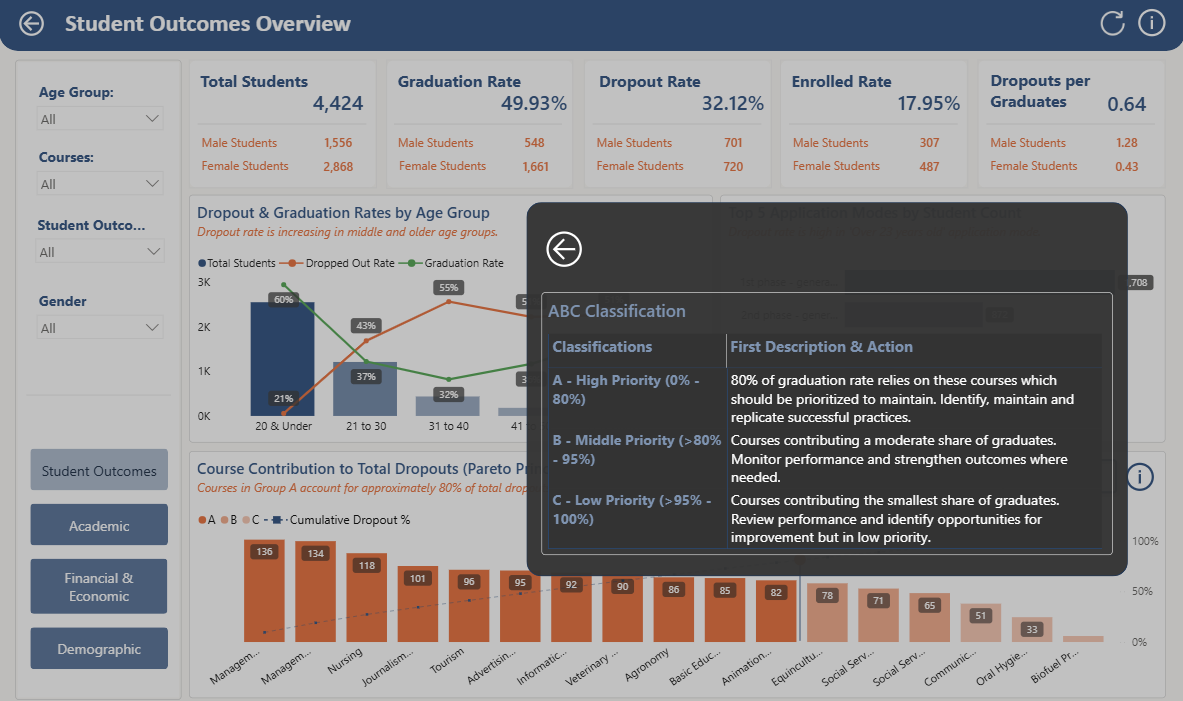

This screenshot's page, from the dashboard's own definition file:
{"tool":"powerbi","page":{"name":"Student Outcomes Overview","canvas":[1582,950],"ordinal":1},"visuals":[{"type":"shape","title":"Shape - Under","box":[0,0,1581.7,73.3],"z":0,"group":"g3"},{"type":"textbox","box":[83.9,12.3,395,50],"z":0,"group":"g7"},{"type":"shape","box":[21.7,85,221.7,853.3],"z":0,"group":"g30"},{"type":"shape","box":[516.7,85,249.1,171.6],"z":0,"group":"g1"},{"type":"group","id":"g1","title":"Group 3","box":[516.7,85,250.1,171.7],"z":0,"group":"g29"},{"type":"shape","box":[779.4,85,250.1,171.4],"z":0,"group":"g4"},{"type":"shape","box":[1042.1,85,250.1,171.4],"z":0,"group":"g8"},{"type":"shape","box":[1304.8,85,250.1,171.4],"z":0,"group":"g22"},{"type":"shape","box":[253.3,85.1,250.1,171.4],"z":0,"group":"g15"},{"type":"textbox","box":[1316.9,91.8,237,71.9],"z":0,"group":"g9"},{"type":"textbox","box":[526.4,92.8,191.5,43.9],"z":0,"group":"g10"},{"type":"textbox","box":[793.7,93,169.6,40.1],"z":0,"group":"g11"},{"type":"textbox","box":[1052.1,93,173,42],"z":0,"group":"g12"},{"type":"textbox","box":[262.8,93.1,181.4,42],"z":0,"group":"g13"},{"type":"textbox","box":[790.4,177.9,142.8,39.1],"z":0,"group":"g17"},{"type":"textbox","box":[1053.1,177.9,142.8,39.1],"z":0,"group":"g18"},{"type":"textbox","box":[1315.8,177.9,142.8,39.1],"z":0,"group":"g19"},{"type":"textbox","box":[264.3,178,142.8,39.1],"z":0,"group":"g20"},{"type":"textbox","box":[527,178.3,182.3,39.2],"z":0,"group":"g21"},{"type":"textbox","box":[790.8,209.9,142.8,39.1],"z":0,"group":"g23"},{"type":"textbox","box":[1053.5,209.9,142.8,39.1],"z":0,"group":"g24"},{"type":"textbox","box":[1316.2,209.9,142.8,39.1],"z":0,"group":"g25"},{"type":"textbox","box":[264.7,210,142.8,39.1],"z":0,"group":"g26"},{"type":"textbox","box":[528.1,210.2,142.3,39.1],"z":0,"group":"g27"},{"type":"slicer","fields":{"Values":["fact_student.Gender"]},"box":[39.7,387.9,188.9,105.6],"z":0,"group":"g16"},{"type":"shape","box":[36.7,508.4,192.2,155.9],"z":0},{"type":"group","id":"g2","title":"Group 4","box":[42,603.6,183.7,293.8],"z":0,"group":"g5"},{"type":"lineStackedColumnComboChart","title":"Course Contribution to Total Dropouts (Pareto Principle & ABC Categorization)","fields":{"Category":["sum_course_contribution.Course Name"],"Series":["sum_course_contribution.Dropout ABC"],"Y":["Sum(sum_course_contribution.Dropout Count)"],"Y2":["Sum(sum_course_contribution.Cumulative Dropout %)"]},"box":[253.1,606.5,1302.1,329.5],"z":0,"group":"g28"},{"type":"actionButton","title":"icon_info_dropout","box":[1495,615.7,56.8,48.9],"z":0,"group":"g14"},{"type":"shape","box":[1052.5,749.1,32.7,111.2],"z":0,"group":"g6"},{"type":"actionButton","title":"btn_demographic","box":[42,841.3,183.7,56],"z":0,"group":"g2"},{"type":"group","id":"g3","title":"Bg-NavBar","box":[0,0,1581.7,73.3],"z":1000},{"type":"shape","box":[0,0,1581.7,46],"z":1000,"group":"g3"},{"type":"image","box":[1463.6,20,43.3,32.5],"z":1000,"group":"g7"},{"type":"shape","box":[527.5,85,223.8,171.6],"z":1000,"group":"g1"},{"type":"group","id":"g4","title":"Group 3","box":[779.4,85,250.1,171.7],"z":1000,"group":"g29"},{"type":"shape","box":[790.3,85,224.7,171.4],"z":1000,"group":"g4"},{"type":"shape","box":[1053,85,224.7,171.4],"z":1000,"group":"g8"},{"type":"shape","box":[1315.7,85,224.7,171.4],"z":1000,"group":"g22"},{"type":"shape","box":[264.2,85.1,224.7,171.4],"z":1000,"group":"g15"},{"type":"slicer","fields":{"Values":["fact_student.Age Groups"]},"box":[39.7,110.1,188.9,105.6],"z":1000,"group":"g16"},{"type":"card","fields":{"Values":["tbl_measure.Dropout : Graduate Ratio"]},"box":[1451.2,120.9,104.9,52.3],"z":1000,"group":"g9"},{"type":"card","fields":{"Values":["tbl_measure.Dropped Out Rate"]},"box":[925.3,121.5,104.7,46.1],"z":1000,"group":"g11"},{"type":"card","fields":{"Values":["tbl_measure.Enrolled Rate"]},"box":[1188,121.5,104.7,46.1],"z":1000,"group":"g12"},{"type":"card","fields":{"Values":["tbl_measure.Total Students"]},"box":[399.2,121.6,104.7,46.1],"z":1000,"group":"g13"},{"type":"card","fields":{"Values":["tbl_measure.Graduate Rate"]},"box":[662.1,121.6,104.3,46.1],"z":1000,"group":"g10"},{"type":"card","fields":{"Values":["tbl_measure.Dropout Students"]},"box":[925.6,176.2,104.7,41.9],"z":1000,"group":"g17"},{"type":"card","fields":{"Values":["tbl_measure.Enrolled Students"]},"box":[1188.3,176.2,104.7,41.9],"z":1000,"group":"g18"},{"type":"card","fields":{"Values":["tbl_measure.Dropout : Graduate Ratio"]},"box":[1451,176.2,104.7,41.9],"z":1000,"group":"g19"},{"type":"card","fields":{"Values":["tbl_measure.Total Students"]},"box":[399.5,176.3,104.7,41.9],"z":1000,"group":"g20"},{"type":"card","fields":{"Values":["tbl_measure.Graduate Students"]},"box":[662.3,176.3,104.3,41.9],"z":1000,"group":"g21"},{"type":"card","fields":{"Values":["tbl_measure.Dropout Students"]},"box":[926,208.2,104.7,41.9],"z":1000,"group":"g23"},{"type":"card","fields":{"Values":["tbl_measure.Enrolled Students"]},"box":[1188.7,208.2,104.7,41.9],"z":1000,"group":"g24"},{"type":"card","fields":{"Values":["tbl_measure.Dropout : Graduate Ratio"]},"box":[1451.4,208.2,104.7,41.9],"z":1000,"group":"g25"},{"type":"card","fields":{"Values":["tbl_measure.Total Students"]},"box":[399.9,208.3,104.7,41.9],"z":1000,"group":"g26"},{"type":"card","fields":{"Values":["tbl_measure.Graduate Students"]},"box":[662.8,208.4,104.3,41.9],"z":1000,"group":"g27"},{"type":"group","id":"g5","title":"Group 6","box":[42,603.6,183.7,293.8],"z":1000,"group":"g30"},{"type":"actionButton","title":"btn_finance_eco","box":[42,603.6,183.7,56],"z":1000,"group":"g2"},{"type":"actionButton","title":"Top 5 Courses with Graduation","box":[1330.6,611.5,165.1,57.3],"z":1000,"group":"g14"},{"type":"group","id":"g6","title":"group_pareto_80_dropout","box":[1038.8,705.1,62.1,155.3],"z":1000,"group":"g28"},{"type":"shape","box":[1061.1,743.3,15.9,15.9],"z":1000,"group":"g6"},{"type":"group","id":"g7","title":"Group 3","box":[21.7,11.7,1545,50.6],"z":2000},{"type":"actionButton","box":[21.7,14.6,55.6,43.4],"z":2000,"group":"g7"},{"type":"group","id":"g8","title":"Group 3","box":[1042.1,85,250.1,171.7],"z":2000,"group":"g29"},{"type":"group","id":"g9","title":"Group 2","box":[1316.9,91.8,239.1,81.4],"z":2000,"group":"g22"},{"type":"group","id":"g10","title":"Group 2","box":[526.4,92.8,240,74.9],"z":2000,"group":"g1"},{"type":"group","id":"g11","title":"Group 2","box":[793.7,93,236.3,74.5],"z":2000,"group":"g4"},{"type":"group","id":"g12","title":"Group 2","box":[1052.1,93,240.6,74.5],"z":2000,"group":"g8"},{"type":"group","id":"g13","title":"Group 2","box":[262.8,93.1,241.1,74.5],"z":2000,"group":"g15"},{"type":"slicer","fields":{"Values":["fact_student.Target"]},"box":[37.9,286.5,192.6,105.1],"z":2000,"group":"g16"},{"type":"shape","title":"Line","box":[36.6,473.4,192.6,117.8],"z":2000,"group":"g30"},{"type":"group","id":"g14","title":"btn_actions_dropout","box":[1330.6,611.5,221.2,57.3],"z":2000,"group":"g28"},{"type":"actionButton","title":"btn_academic","box":[42,676.9,183.7,56],"z":2000,"group":"g2"},{"type":"textbox","box":[1038.8,705.1,62.1,35],"z":2000,"group":"g6"},{"type":"actionButton","box":[1513.7,11.7,53,47.7],"z":3000,"group":"g7"},{"type":"group","id":"g15","title":"Group 3","box":[253.3,85.1,250.9,171.4],"z":3000,"group":"g29"},{"type":"group","id":"g16","title":"Group 5","box":[37.9,110.1,192.6,383.5],"z":3000,"group":"g30"},{"type":"group","id":"g17","title":"Group 2","box":[790.4,176.2,239.9,41.9],"z":3000,"group":"g4"},{"type":"group","id":"g18","title":"Group 2","box":[1053.1,176.2,239.9,41.9],"z":3000,"group":"g8"},{"type":"group","id":"g19","title":"Group 2","box":[1315.8,176.2,239.9,41.9],"z":3000,"group":"g22"},{"type":"group","id":"g20","title":"Group 2","box":[264.3,176.3,239.9,41.9],"z":3000,"group":"g15"},{"type":"group","id":"g21","title":"Group 2","box":[527,176.3,239.6,41.9],"z":3000,"group":"g1"},{"type":"slicer","fields":{"Values":["dim_course.Course Name"]},"box":[39.6,197.4,189.2,105.1],"z":3000,"group":"g16"},{"type":"actionButton","title":"btn_outcome","box":[42.3,750.1,183,73.9],"z":3000,"group":"g2"},{"type":"group","id":"g22","title":"Group 3","box":[1304.8,85,251.3,171.4],"z":4000,"group":"g29"},{"type":"group","id":"g23","title":"Group 2","box":[790.8,208.2,239.2,41.9],"z":4000,"group":"g4"},{"type":"group","id":"g24","title":"Group 2","box":[1053.5,208.2,239.2,41.9],"z":4000,"group":"g8"},{"type":"group","id":"g25","title":"Group 2","box":[1316.2,208.2,239.2,41.9],"z":4000,"group":"g22"},{"type":"group","id":"g26","title":"Group 2","box":[264.7,208.3,239.2,41.9],"z":4000,"group":"g15"},{"type":"group","id":"g27","title":"Group 2","box":[528.1,208.4,238.3,41.9],"z":4000,"group":"g1"},{"type":"group","id":"g28","title":"grp_dropout_courses","box":[253.1,606.5,1302.1,329.5],"z":4000},{"type":"lineClusteredColumnComboChart","title":"Dropout & Graduation Rates by Age Group","fields":{"Category":["fact_student.Age Groups"],"Y":["tbl_measure.Total Students"],"Y2":["tbl_measure.Dropped Out Rate","tbl_measure.Graduation Rate"]},"box":[253,265.3,698.3,330],"z":5000},{"type":"clusteredBarChart","title":"Top 5 Application Modes by Student Count","fields":{"Category":["dim_applicationmode.ApplicationMode"],"Y":["tbl_measure.Total Students"]},"box":[961.3,265.3,593.3,330],"z":6000},{"type":"group","id":"g29","title":"Group 1","box":[253.3,85,1302.8,171.7],"z":7000},{"type":"group","id":"g30","title":"Sidebar","box":[21.7,85,221.7,853.3],"z":8000}]}

Visuals, with their boxes in screenshot pixels (x1, y1, x2, y2), scaled from the page's 1582x950 canvas onto the 1183x701 screenshot:
"Shape - Under" shape: detection(0, 0, 1182, 54)
textbox: detection(63, 9, 358, 46)
shape: detection(16, 63, 182, 692)
shape: detection(386, 63, 573, 189)
"Group 3" group: detection(386, 63, 573, 189)
shape: detection(583, 63, 770, 189)
shape: detection(779, 63, 966, 189)
shape: detection(976, 63, 1163, 189)
shape: detection(189, 63, 376, 189)
textbox: detection(985, 68, 1162, 121)
textbox: detection(394, 68, 537, 101)
textbox: detection(594, 69, 720, 98)
textbox: detection(787, 69, 916, 100)
textbox: detection(197, 69, 332, 100)
textbox: detection(591, 131, 698, 160)
textbox: detection(787, 131, 894, 160)
textbox: detection(984, 131, 1091, 160)
textbox: detection(198, 131, 304, 160)
textbox: detection(394, 132, 530, 160)
textbox: detection(591, 155, 698, 184)
textbox: detection(788, 155, 895, 184)
textbox: detection(984, 155, 1091, 184)
textbox: detection(198, 155, 305, 184)
textbox: detection(395, 155, 501, 184)
slicer - fact_student.Gender: detection(30, 286, 171, 364)
shape: detection(27, 375, 171, 490)
"Group 4" group: detection(31, 445, 169, 662)
"Course Contribution to Total Dropouts (Pareto Principle & ABC Categorization)" lineStackedColumnComboChart: detection(189, 448, 1163, 691)
"icon_info_dropout" actionButton: detection(1118, 454, 1160, 490)
shape: detection(787, 553, 811, 635)
"btn_demographic" actionButton: detection(31, 621, 169, 662)
"Bg-NavBar" group: detection(0, 0, 1182, 54)
shape: detection(0, 0, 1182, 34)
image: detection(1094, 15, 1127, 39)
shape: detection(394, 63, 562, 189)
"Group 3" group: detection(583, 63, 770, 189)
shape: detection(591, 63, 759, 189)
shape: detection(787, 63, 955, 189)
shape: detection(984, 63, 1152, 189)
shape: detection(198, 63, 366, 189)
slicer - fact_student.Age Groups: detection(30, 81, 171, 159)
card - tbl_measure.Dropout : Graduate Ratio: detection(1085, 89, 1164, 128)
card - tbl_measure.Dropped Out Rate: detection(692, 90, 770, 124)
card - tbl_measure.Enrolled Rate: detection(888, 90, 967, 124)
card - tbl_measure.Total Students: detection(299, 90, 377, 124)
card - tbl_measure.Graduate Rate: detection(495, 90, 573, 124)
card - tbl_measure.Dropout Students: detection(692, 130, 770, 161)
card - tbl_measure.Enrolled Students: detection(889, 130, 967, 161)
card - tbl_measure.Dropout : Graduate Ratio: detection(1085, 130, 1163, 161)
card - tbl_measure.Total Students: detection(299, 130, 377, 161)
card - tbl_measure.Graduate Students: detection(495, 130, 573, 161)
card - tbl_measure.Dropout Students: detection(692, 154, 771, 185)
card - tbl_measure.Enrolled Students: detection(889, 154, 967, 185)
card - tbl_measure.Dropout : Graduate Ratio: detection(1085, 154, 1164, 185)
card - tbl_measure.Total Students: detection(299, 154, 377, 185)
card - tbl_measure.Graduate Students: detection(496, 154, 574, 185)
"Group 6" group: detection(31, 445, 169, 662)
"btn_finance_eco" actionButton: detection(31, 445, 169, 487)
"Top 5 Courses with Graduation" actionButton: detection(995, 451, 1118, 494)
"group_pareto_80_dropout" group: detection(777, 520, 823, 635)
shape: detection(793, 548, 805, 560)
"Group 3" group: detection(16, 9, 1172, 46)
actionButton: detection(16, 11, 58, 43)
"Group 3" group: detection(779, 63, 966, 189)
"Group 2" group: detection(985, 68, 1164, 128)
"Group 2" group: detection(394, 68, 573, 124)
"Group 2" group: detection(594, 69, 770, 124)
"Group 2" group: detection(787, 69, 967, 124)
"Group 2" group: detection(197, 69, 377, 124)
slicer - fact_student.Target: detection(28, 211, 172, 289)
"Line" shape: detection(27, 349, 171, 436)
"btn_actions_dropout" group: detection(995, 451, 1160, 494)
"btn_academic" actionButton: detection(31, 499, 169, 541)
textbox: detection(777, 520, 823, 546)
actionButton: detection(1132, 9, 1172, 44)
"Group 3" group: detection(189, 63, 377, 189)
"Group 5" group: detection(28, 81, 172, 364)
"Group 2" group: detection(591, 130, 770, 161)
"Group 2" group: detection(787, 130, 967, 161)
"Group 2" group: detection(984, 130, 1163, 161)
"Group 2" group: detection(198, 130, 377, 161)
"Group 2" group: detection(394, 130, 573, 161)
slicer - dim_course.Course Name: detection(30, 146, 171, 223)
"btn_outcome" actionButton: detection(32, 553, 168, 608)
"Group 3" group: detection(976, 63, 1164, 189)
"Group 2" group: detection(591, 154, 770, 185)
"Group 2" group: detection(788, 154, 967, 185)
"Group 2" group: detection(984, 154, 1163, 185)
"Group 2" group: detection(198, 154, 377, 185)
"Group 2" group: detection(395, 154, 573, 185)
"grp_dropout_courses" group: detection(189, 448, 1163, 691)
"Dropout & Graduation Rates by Age Group" lineClusteredColumnComboChart: detection(189, 196, 711, 439)
"Top 5 Application Modes by Student Count" clusteredBarChart: detection(719, 196, 1163, 439)
"Group 1" group: detection(189, 63, 1164, 189)
"Sidebar" group: detection(16, 63, 182, 692)
